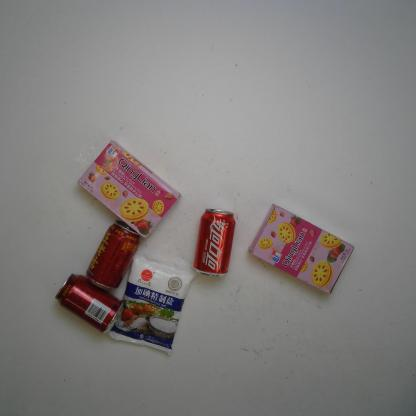Dessert: (76, 141, 180, 240), (249, 206, 356, 295)
Drink: (54, 273, 124, 336), (88, 220, 140, 290), (196, 208, 237, 278)
Seasoner: (108, 252, 198, 355)
